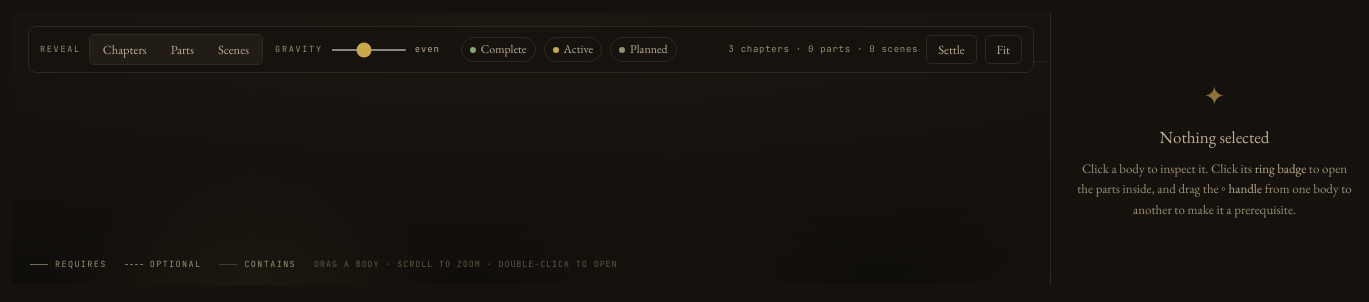
Scenario: ModuleWeb › status chips filter chapters out of the web
Click the button "Planned": point(643, 50) x1=610 y1=37 x2=677 y2=62
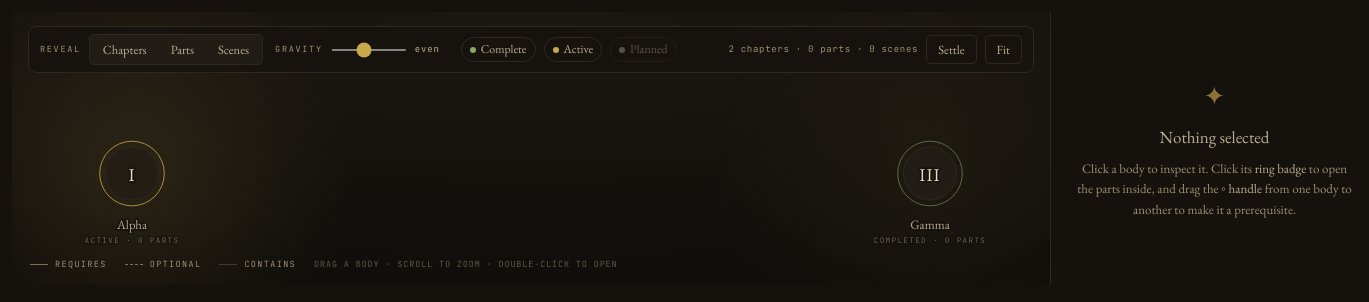
Check: the text "Alpha" is shown, box x1=116 y1=216 x2=148 y2=233
Check: the icon "Beta" is gone
